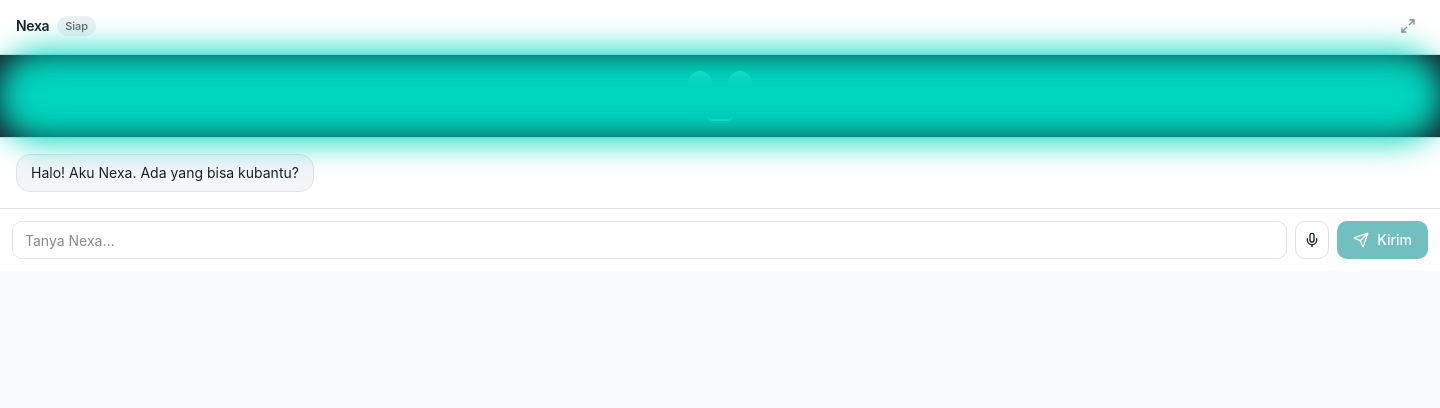
Test: NexaChat — mode terbatas › tetap bisa mengirim pesan teks saat voice gagal
Rekam lalu hentikan → STT ditolak backend.
Click the button named "mulai bicara".
click(1312, 240)  # box [1295,221,1329,259]
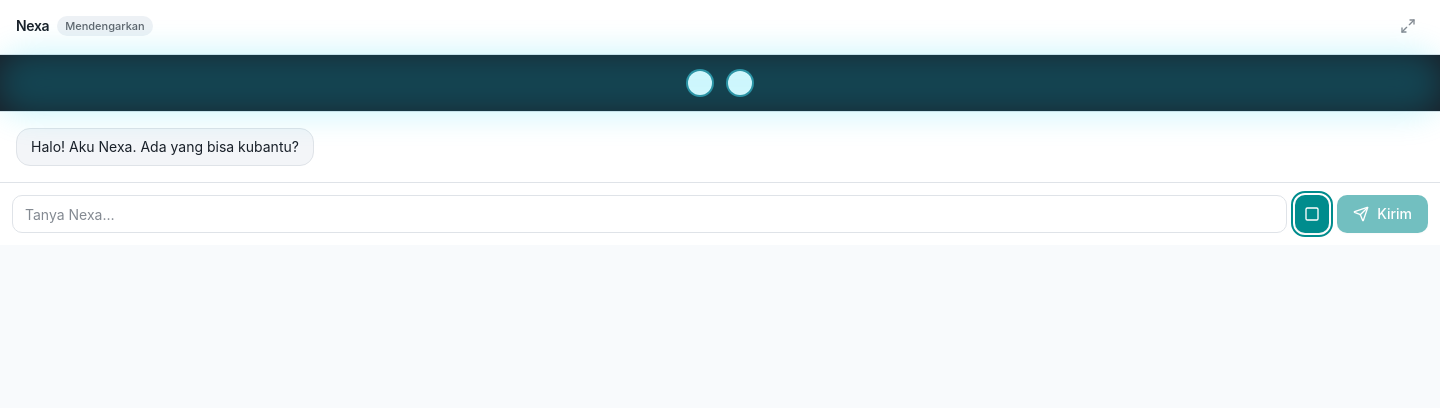
Click the button named "berhenti merekam".
click(1312, 214)  # box [1295,195,1329,233]
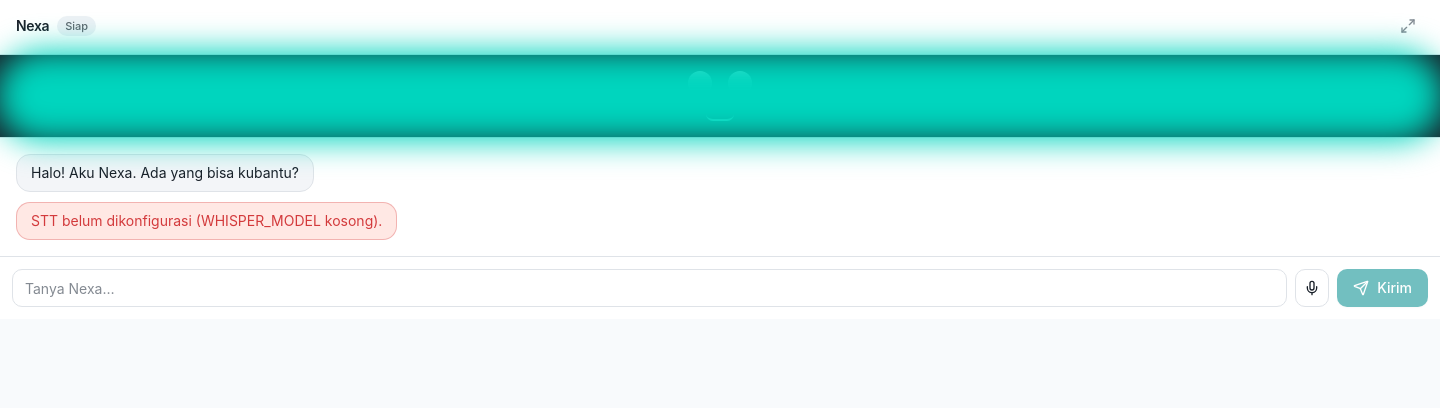
Result: the text "STT belum dikonfigurasi (WHISPER_MODEL kosong)." is shown at [16,202,397,240]
Input teks tetap berfungsi.
Type "nyalakan lampu" into the field with placeholder "Tanya Nexa…".
click(649, 288); type("nyalakan lampu")  # box [12,269,1287,307]
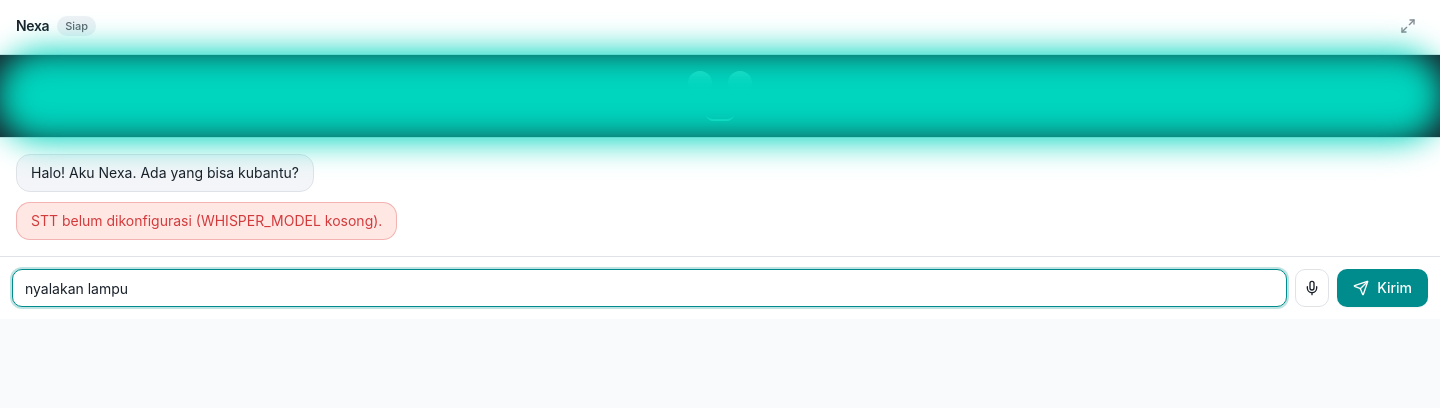
Click the button "Kirim".
click(1383, 288)  # box [1337,269,1428,307]
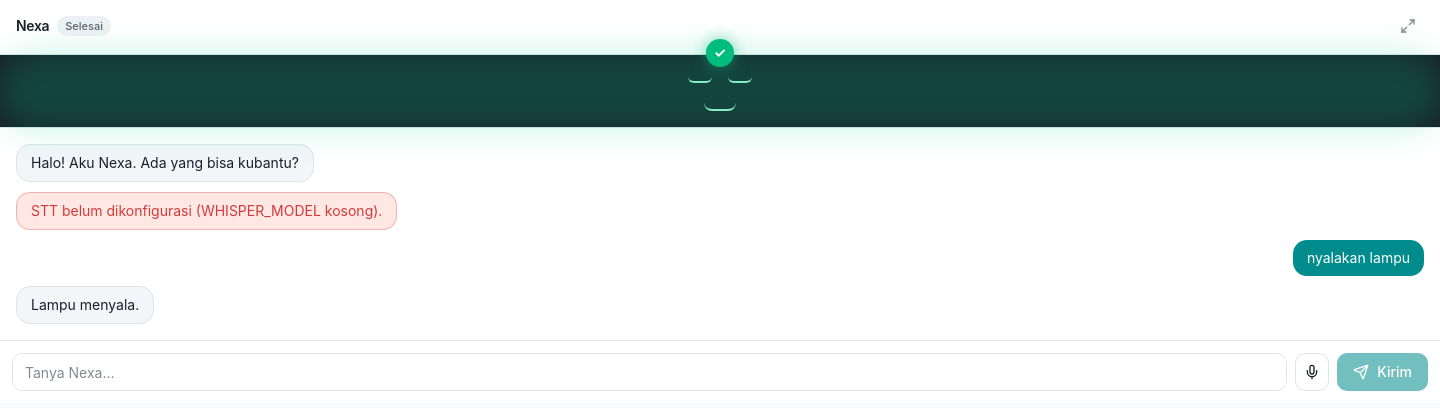
Result: the text "Lampu menyala." is shown at [16,286,154,324]
